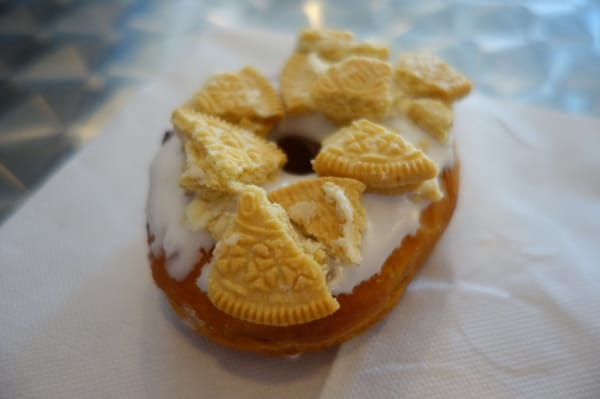pasta: (312, 118, 439, 190)
